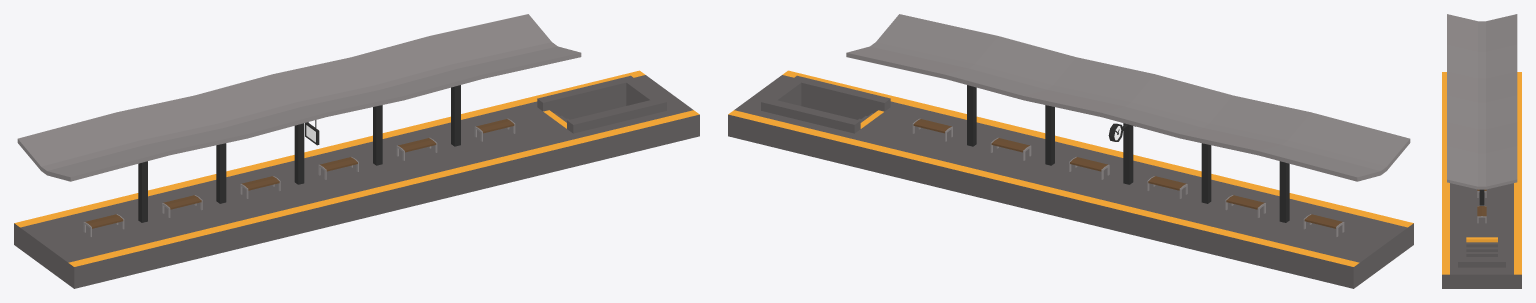
Rendered from train-station-platform-stairs.glb.
3 views of the same model, side by side, from view 1: azimuth 30°, elevation 25°; view 2: azimuth 150°, elevation 25°; view 3: azimuth 270°, elevation 25° (orthographic). The views are drawn at different scales.
Parts seen in each view (by area): view 1: train-station-platform-stairs; view 2: train-station-platform-stairs; view 3: train-station-platform-stairs.
Boxes of the visible parts, x1,y1,x2,y2 form: train-station-platform-stairs: (14, 14, 699, 288); train-station-platform-stairs: (728, 14, 1413, 288); train-station-platform-stairs: (1442, 14, 1521, 288).
Size of the model in its own units: 30.04 by 5.1 by 5.
1 material, 1 textured.
